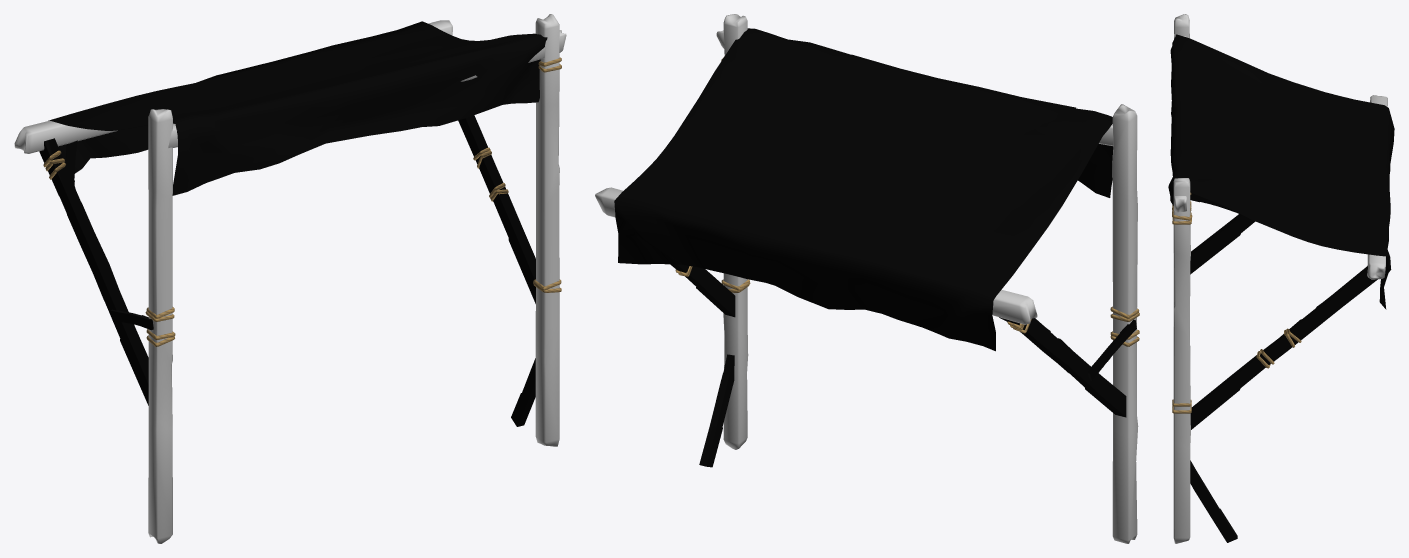
Rendered from SM_StoreStall.fbx.
3 renders of one model, left to right at view 1: azimuth 30°, elevation 25°; view 2: azimuth 150°, elevation 25°; view 3: azimuth 270°, elevation 25°, orthographic. The views are drawn at different scales.
Parts seen in each view (by area): view 1: SM_StoreStall_LOD0; view 2: SM_StoreStall_LOD0; view 3: SM_StoreStall_LOD0.
Boxes of the visible parts, bbox=[...] form: SM_StoreStall_LOD0: bbox=[14, 14, 566, 543]; SM_StoreStall_LOD0: bbox=[595, 14, 1139, 543]; SM_StoreStall_LOD0: bbox=[1168, 14, 1394, 543].
Size of what is drawn, in the model's own units: 4.98 by 4.73 by 2.66.
